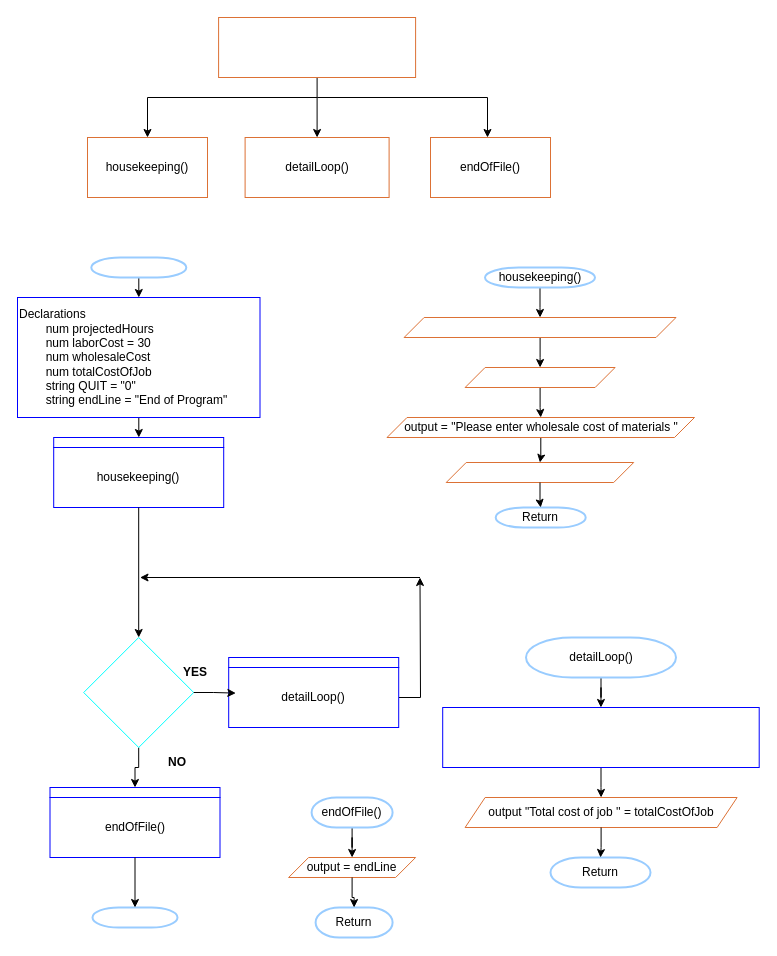
Image size: 777x956. Some labels were removed from this diagram. The shapes that lost their labels are listed below. From the top down, each one's centre as x and y in pixels, then its label:
[317,47]: Main Program
[138,267]: Start
[539,327]: output = "Please enter total projected hours"
[539,377]: input projectedHours
[539,472]: input wholesaleCost
[138,692]: projectedHours =/= QUIT?
[600,737]: output totalCostOfJob = (laborCost * projectedHours) + (wholesaleCost * 1.2)
[134,917]: Stop
